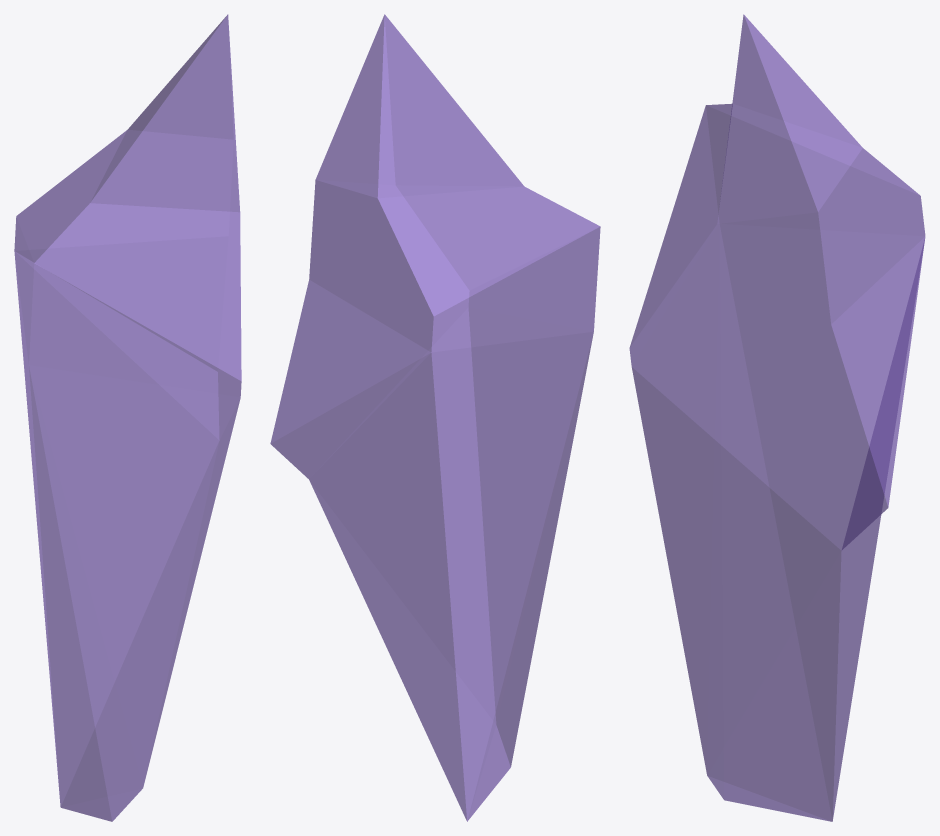
The model's file is Crystal_New_08.fbx.
3 renders of one model, left to right at view 1: azimuth 30°, elevation 25°; view 2: azimuth 150°, elevation 25°; view 3: azimuth 270°, elevation 25°, orthographic. The views are drawn at different scales.
Parts seen in each view (by area): view 1: Model; view 2: Model; view 3: Model.
Boxes of the visible parts, x1,y1,x2,y2 form: Model: (14,14,241,821); Model: (270,14,600,821); Model: (629,14,925,821).
Bounding box in the file's own units: 180 × 512 × 157.
